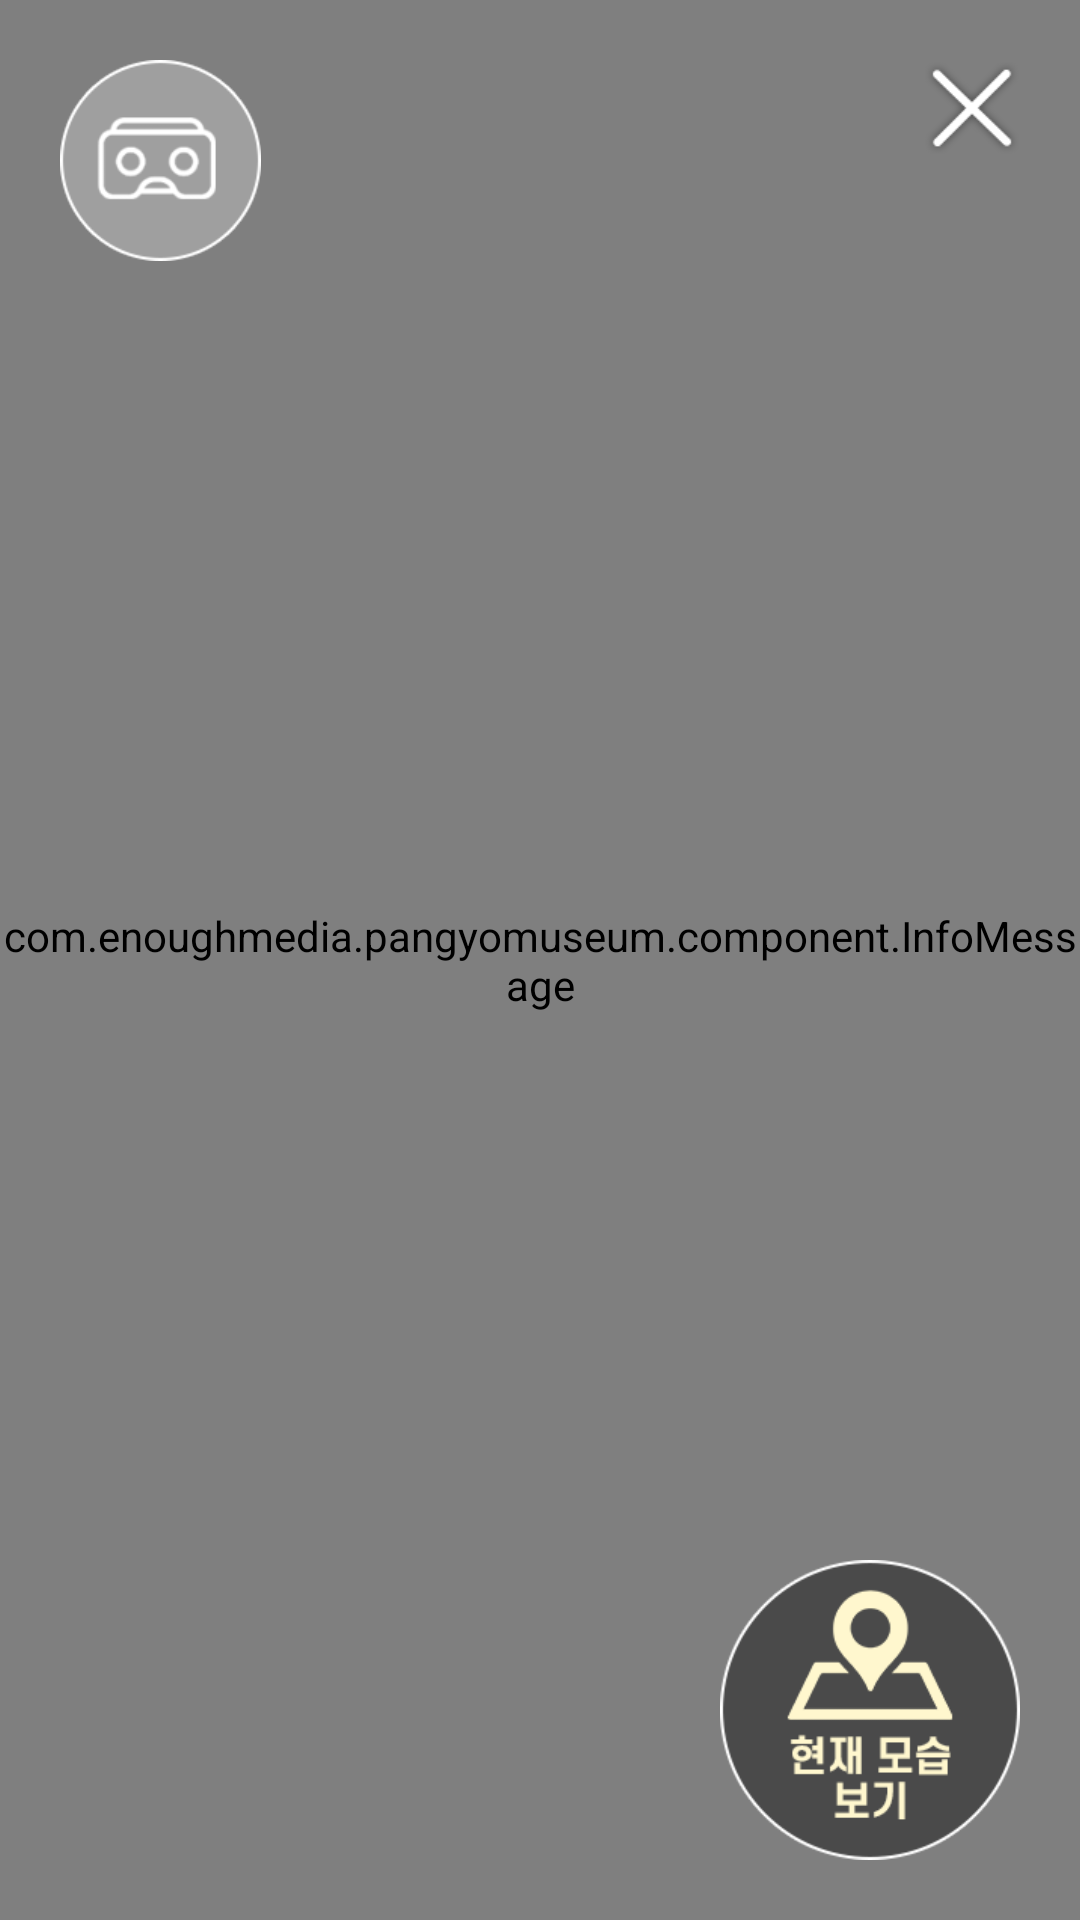

Icon bounding boxes for this 1080*1920 phone screenshot, format (x1, y1, x2, y2):
cardboard: (60, 60, 261, 261)
close: (933, 69, 1011, 147)
